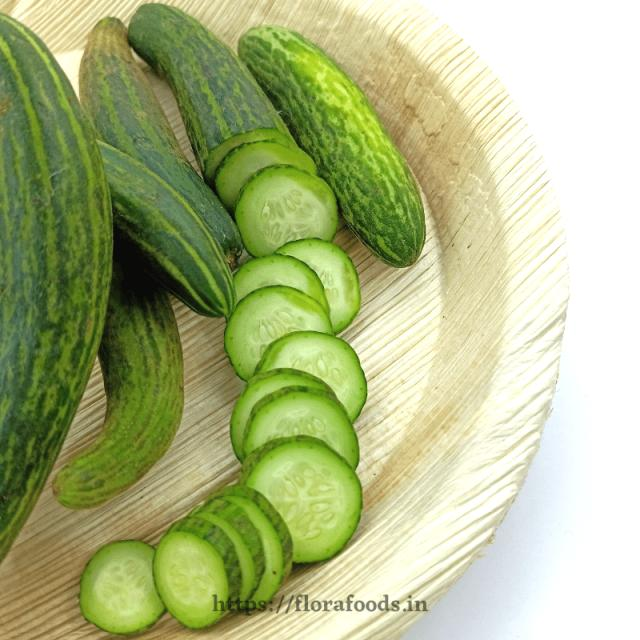Pickle: (0, 14, 112, 559), (239, 26, 425, 268), (79, 18, 242, 266), (130, 4, 290, 185), (98, 140, 235, 318), (246, 438, 361, 562), (230, 369, 359, 468), (224, 285, 334, 381), (256, 331, 368, 422), (230, 369, 336, 460), (235, 165, 338, 256), (275, 238, 361, 333), (79, 540, 165, 634), (215, 140, 318, 213), (152, 531, 229, 628), (221, 495, 284, 602), (234, 254, 330, 313), (194, 512, 255, 601)
